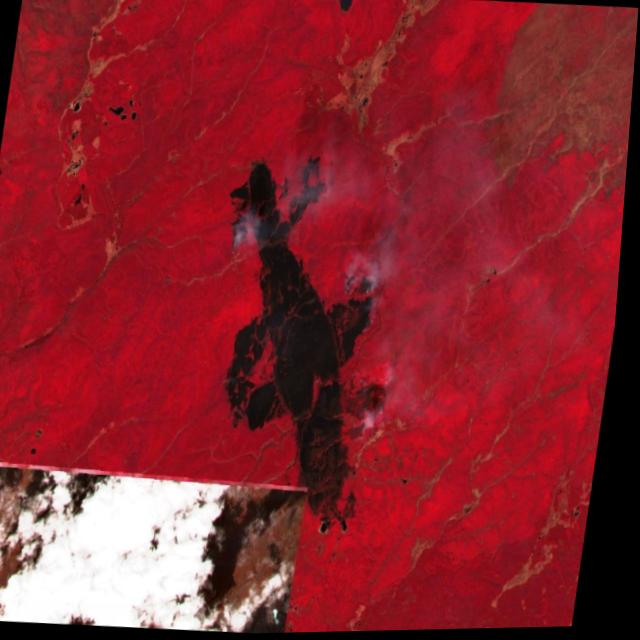fire: (335, 266, 390, 341), (226, 211, 263, 267), (351, 410, 380, 449)
